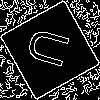U: (25, 25, 80, 73)
